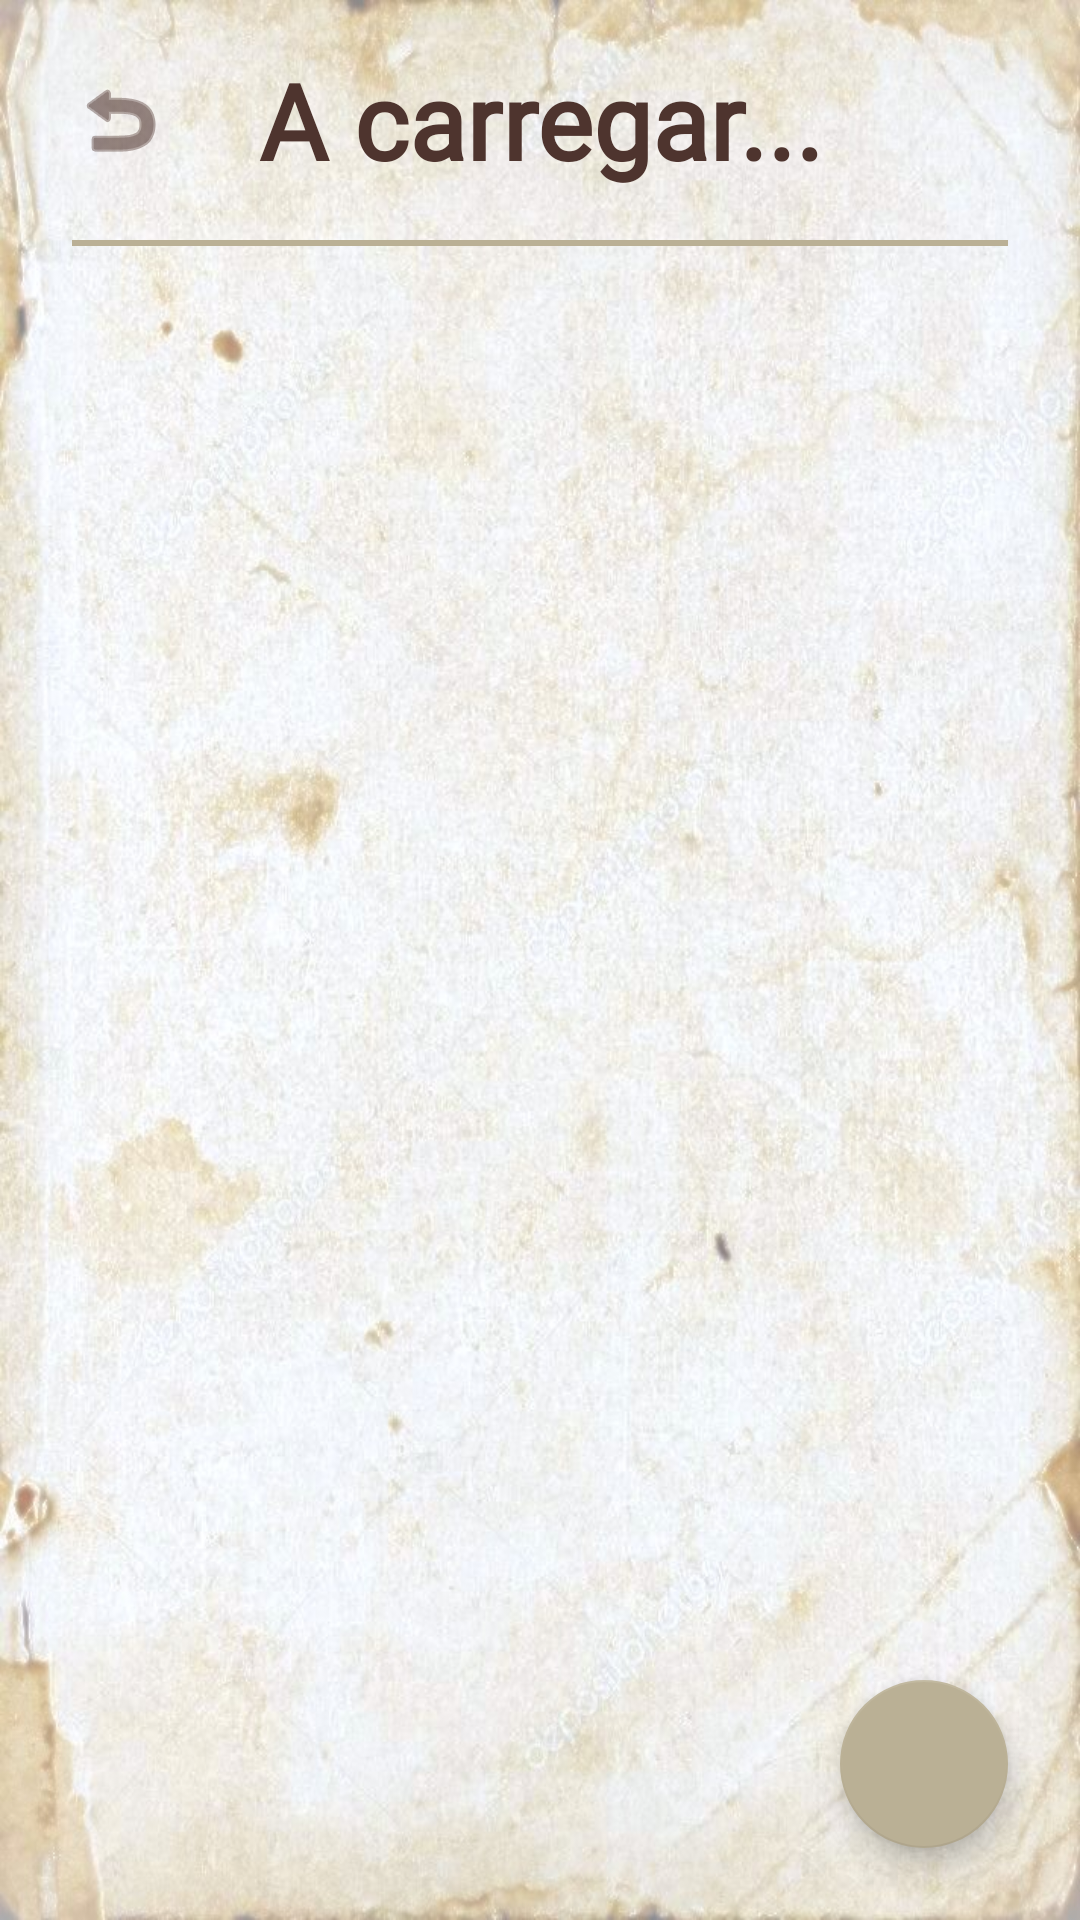

Icon bounding boxes for this 1080px×1920px phone screenshot, format bbox=[x1, y1, x2, y2]:
revert: bbox=[87, 75, 187, 152]
